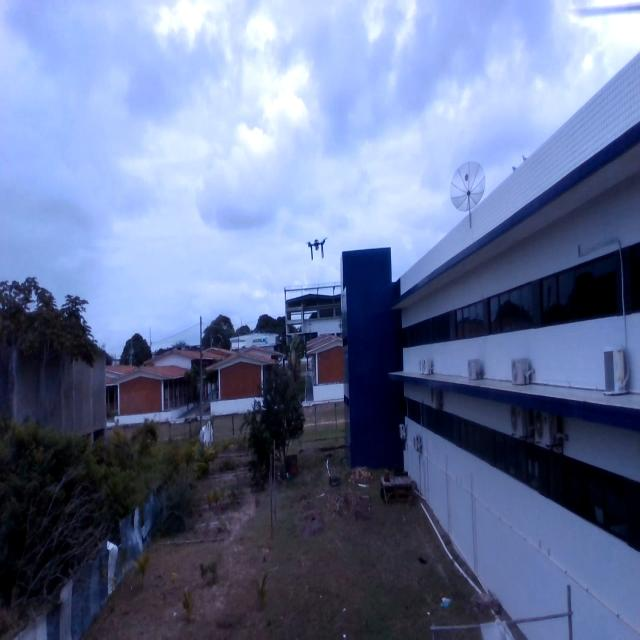-uav-: (300, 228, 332, 273)
